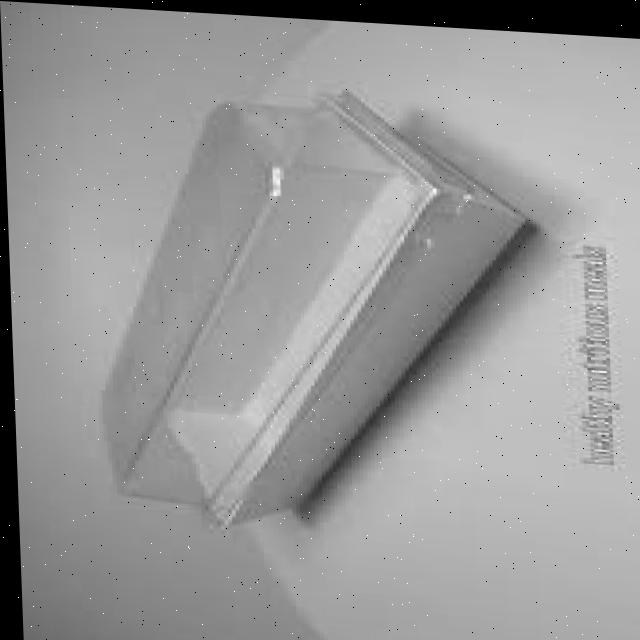disposable: (63, 71, 557, 546)
